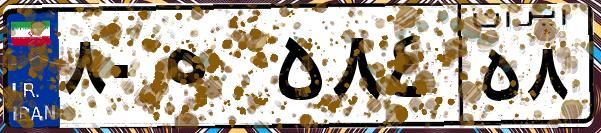0: (110, 28, 158, 98)
4: (385, 28, 445, 110)
5: (270, 28, 330, 110), (475, 38, 525, 113)
8: (330, 28, 385, 110), (57, 26, 110, 100), (525, 38, 570, 115)
ه: (158, 20, 270, 120)
